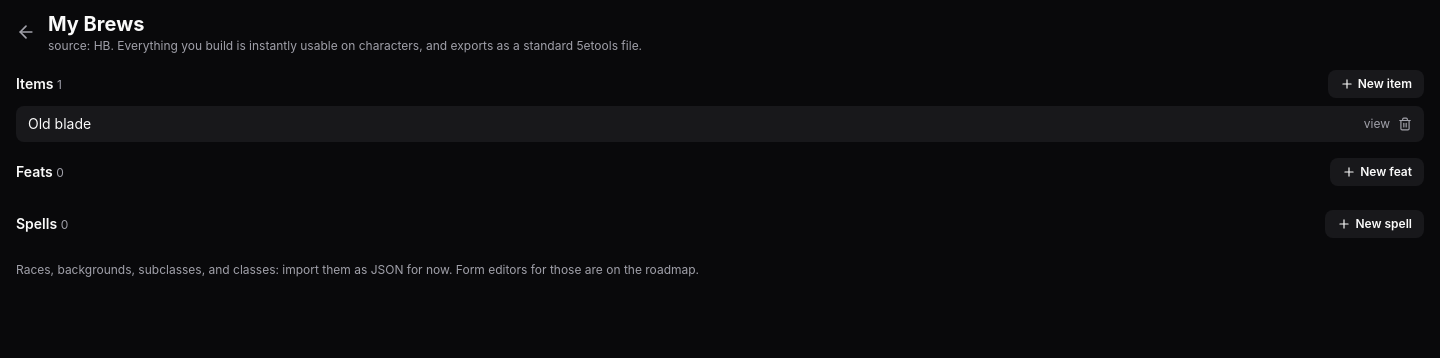
Test: BuilderPage writes › reports a refused delete instead of dropping the entity from view
Click the button named "Delete Old blade". click: point(1405, 124)
box: [1398,117,1412,131]
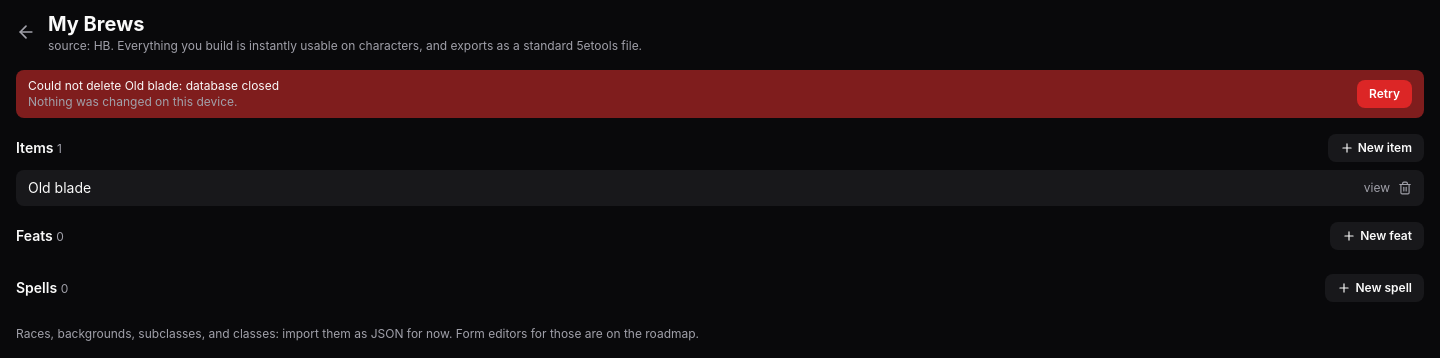
Check: the button "Old blade" is shown, box [28,178,1356,198]
Check: the message shows "Could not delete Old blade", box [28,78,279,93]
